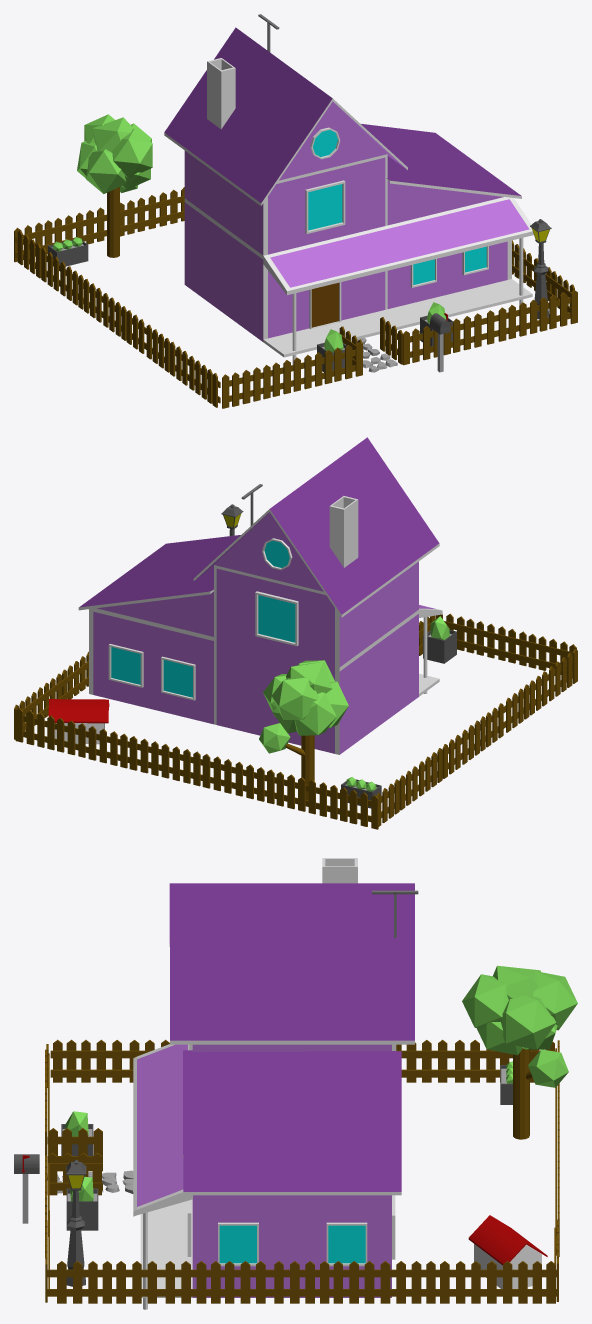
The picture shows the model from 3 angles, top to bottom: view 1: azimuth 30°, elevation 25°; view 2: azimuth 150°, elevation 25°; view 3: azimuth 270°, elevation 25°; orthographic projection. The views are drawn at different scales.
Visible parts, largest first — view 1: ee8; view 2: ee8; view 3: ee8.
Boxes of the visible parts, x1,y1,x2,y2 form: ee8: (14,14,577,408); ee8: (14,437,577,829); ee8: (14,858,577,1309).
Bounding box in the file's own units: 25.08 × 16.87 × 26.76.
